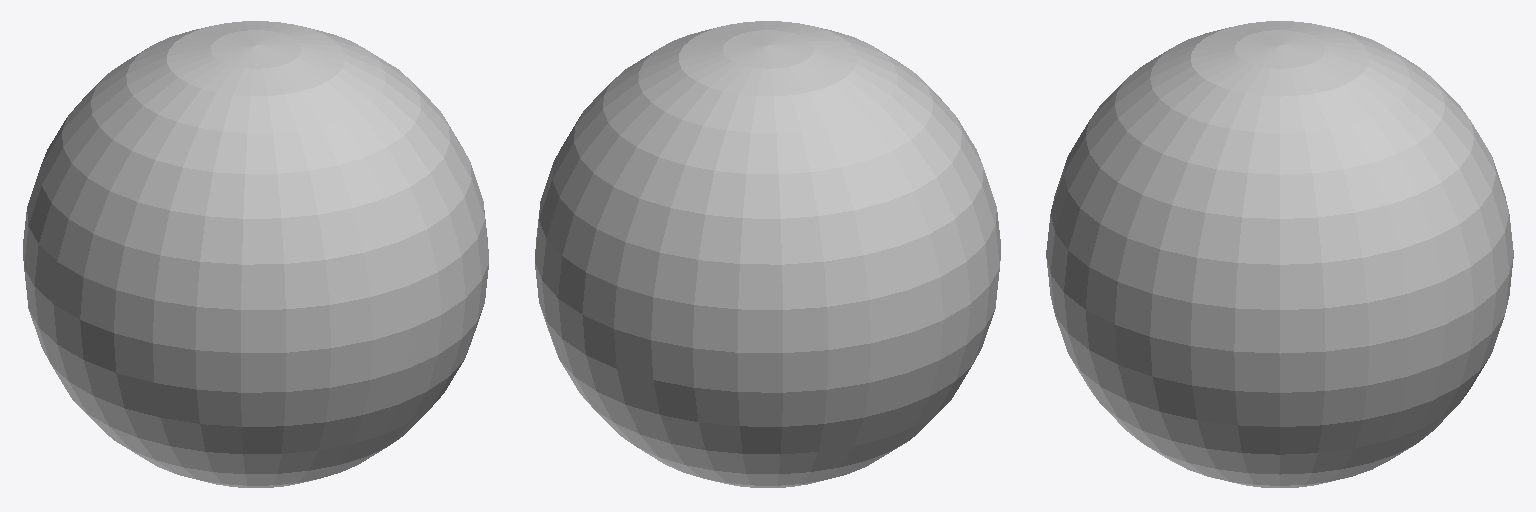
The model's file is DinoPackunHikePlanet.obj.
3 renders of one model, left to right at view 1: azimuth 30°, elevation 25°; view 2: azimuth 150°, elevation 25°; view 3: azimuth 270°, elevation 25°, orthographic.
Visible parts, largest first — view 1: Sphere_Sphere.049; view 2: Sphere_Sphere.049; view 3: Sphere_Sphere.049.
Part boxes in pixels (x1,y1,x2,y2): Sphere_Sphere.049: (23,21,488,487); Sphere_Sphere.049: (535,21,1000,487); Sphere_Sphere.049: (1046,21,1513,487).
Bounding box in the file's own units: 3042 × 3023 × 3042.